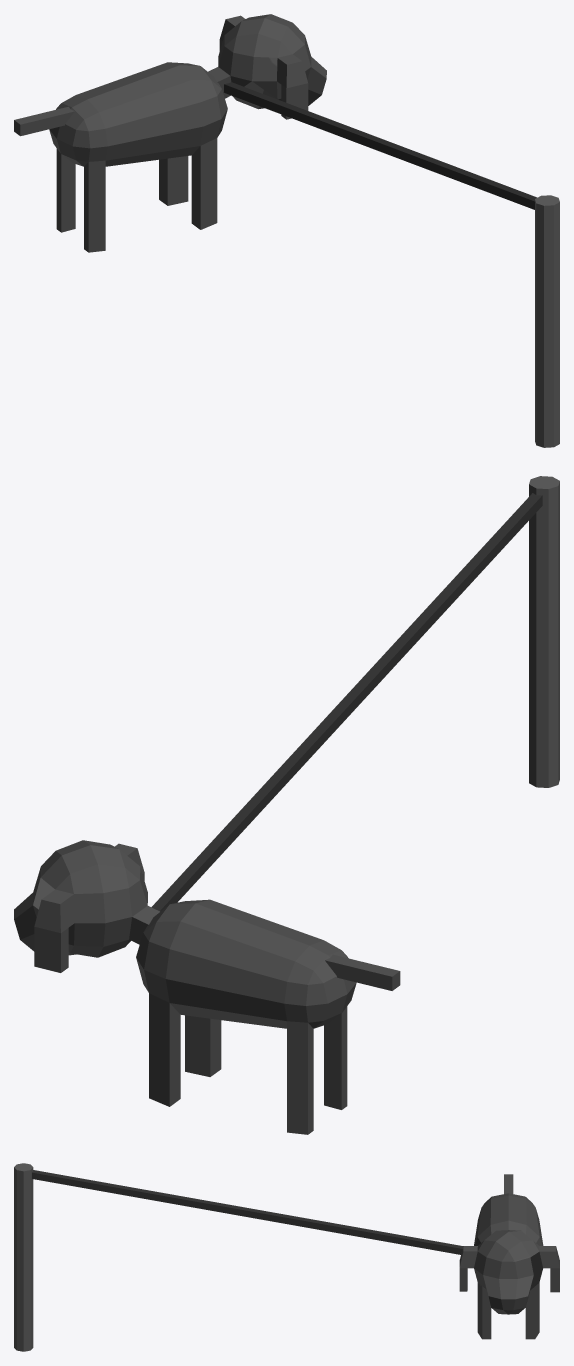
The model's file is dog.fbx.
The picture shows the model from 3 angles, top to bottom: view 1: azimuth 30°, elevation 25°; view 2: azimuth 150°, elevation 25°; view 3: azimuth 270°, elevation 25°; orthographic projection. The views are drawn at different scales.
Parts seen in each view (by area): view 1: Dog; view 2: Dog; view 3: Dog.
Boxes of the visible parts, bbox=[...] form: Dog: bbox=[14, 14, 559, 447]; Dog: bbox=[14, 476, 559, 1134]; Dog: bbox=[14, 1163, 559, 1351].
Size of the model in its own units: 108 by 82.26 by 226.
